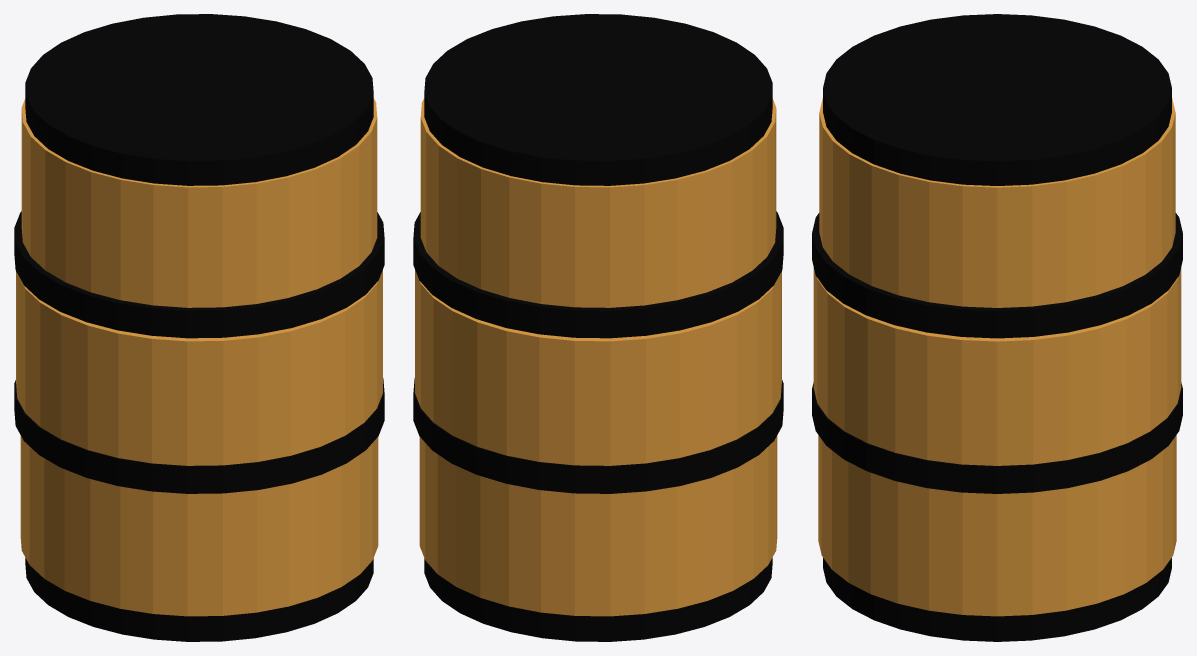
The model's file is setup barrel.fbx.
3 views of the same model, side by side, from view 1: azimuth 30°, elevation 25°; view 2: azimuth 150°, elevation 25°; view 3: azimuth 270°, elevation 25° (orthographic).
Visible parts, largest first — view 1: black part.003, main part.001, main part.002, main part, black part.002, black part.001, black part; view 2: black part.003, main part.001, main part.002, main part, black part.002, black part.001, black part; view 3: black part.003, main part.001, main part.002, main part, black part.002, black part.001, black part.
Part boxes in pixels (x1=…): black part.003: x1=25, y1=14, x2=373, y2=185; main part.001: x1=16, y1=270, x2=382, y2=465; main part.002: x1=21, y1=98, x2=377, y2=307; main part: x1=20, y1=435, x2=378, y2=616; black part.002: x1=14, y1=211, x2=384, y2=338; black part.001: x1=14, y1=378, x2=384, y2=493; black part: x1=25, y1=558, x2=373, y2=641; black part.003: x1=424, y1=14, x2=772, y2=185; main part.001: x1=415, y1=270, x2=781, y2=465; main part.002: x1=420, y1=98, x2=776, y2=307; main part: x1=419, y1=435, x2=777, y2=616; black part.002: x1=413, y1=211, x2=783, y2=338; black part.001: x1=413, y1=378, x2=783, y2=493; black part: x1=424, y1=558, x2=772, y2=641; black part.003: x1=823, y1=14, x2=1171, y2=185; main part.001: x1=813, y1=268, x2=1181, y2=465; main part.002: x1=819, y1=98, x2=1175, y2=307; main part: x1=818, y1=435, x2=1176, y2=616; black part.002: x1=812, y1=213, x2=1182, y2=338; black part.001: x1=812, y1=382, x2=1182, y2=493; black part: x1=823, y1=558, x2=1171, y2=641.
Size of the model in its own units: 112 by 161 by 112.
